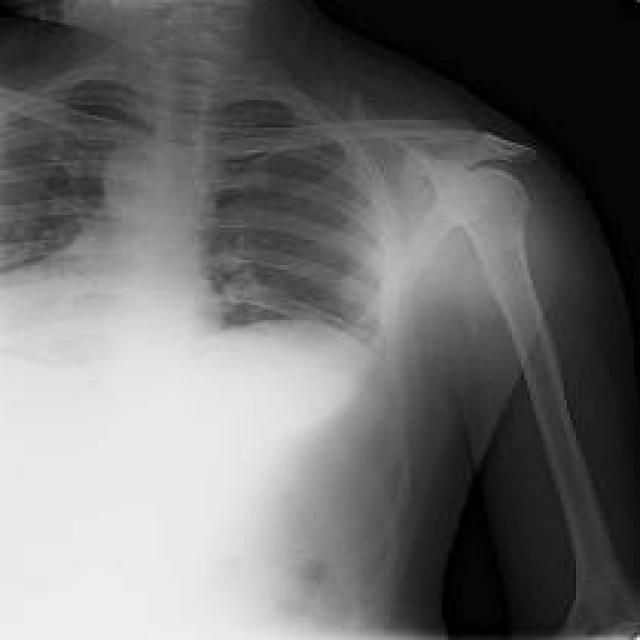normal: (3, 0, 631, 640)
